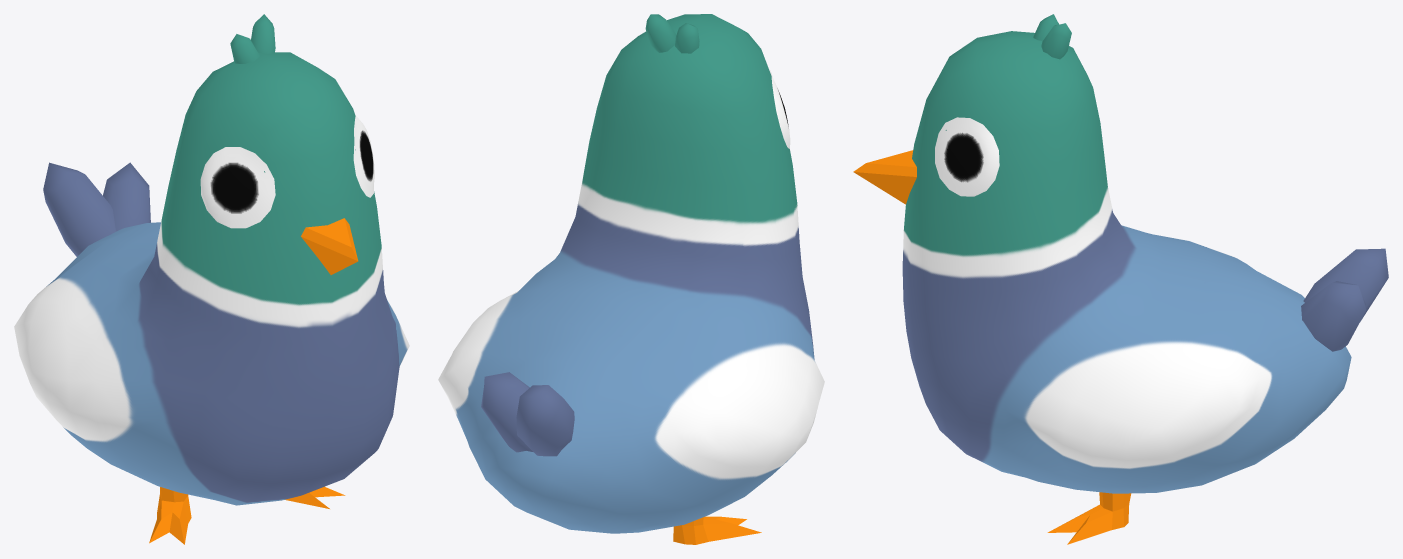
The model's file is Pigeon.glb.
3 views of the same model, side by side, from view 1: azimuth 30°, elevation 25°; view 2: azimuth 150°, elevation 25°; view 3: azimuth 270°, elevation 25° (orthographic). The views are drawn at different scales.
Parts seen in each view (by area): view 1: Pigeon; view 2: Pigeon; view 3: Pigeon.
Boxes of the visible parts, left/top/right/bottom form: Pigeon: left=14, top=14, right=409, bottom=544; Pigeon: left=438, top=14, right=824, bottom=544; Pigeon: left=853, top=14, right=1388, bottom=544.
Size of the model in its own units: 1.54 by 2.19 by 2.2.
1 material, 1 textured.
